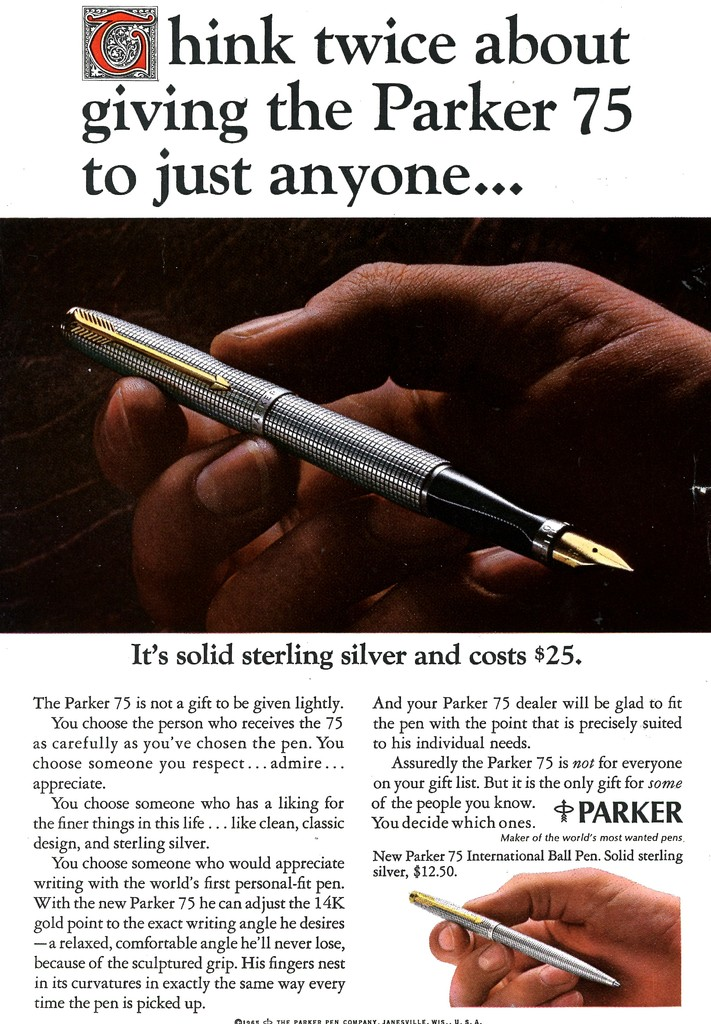Pen: (33, 283, 662, 572), (403, 888, 620, 986)
